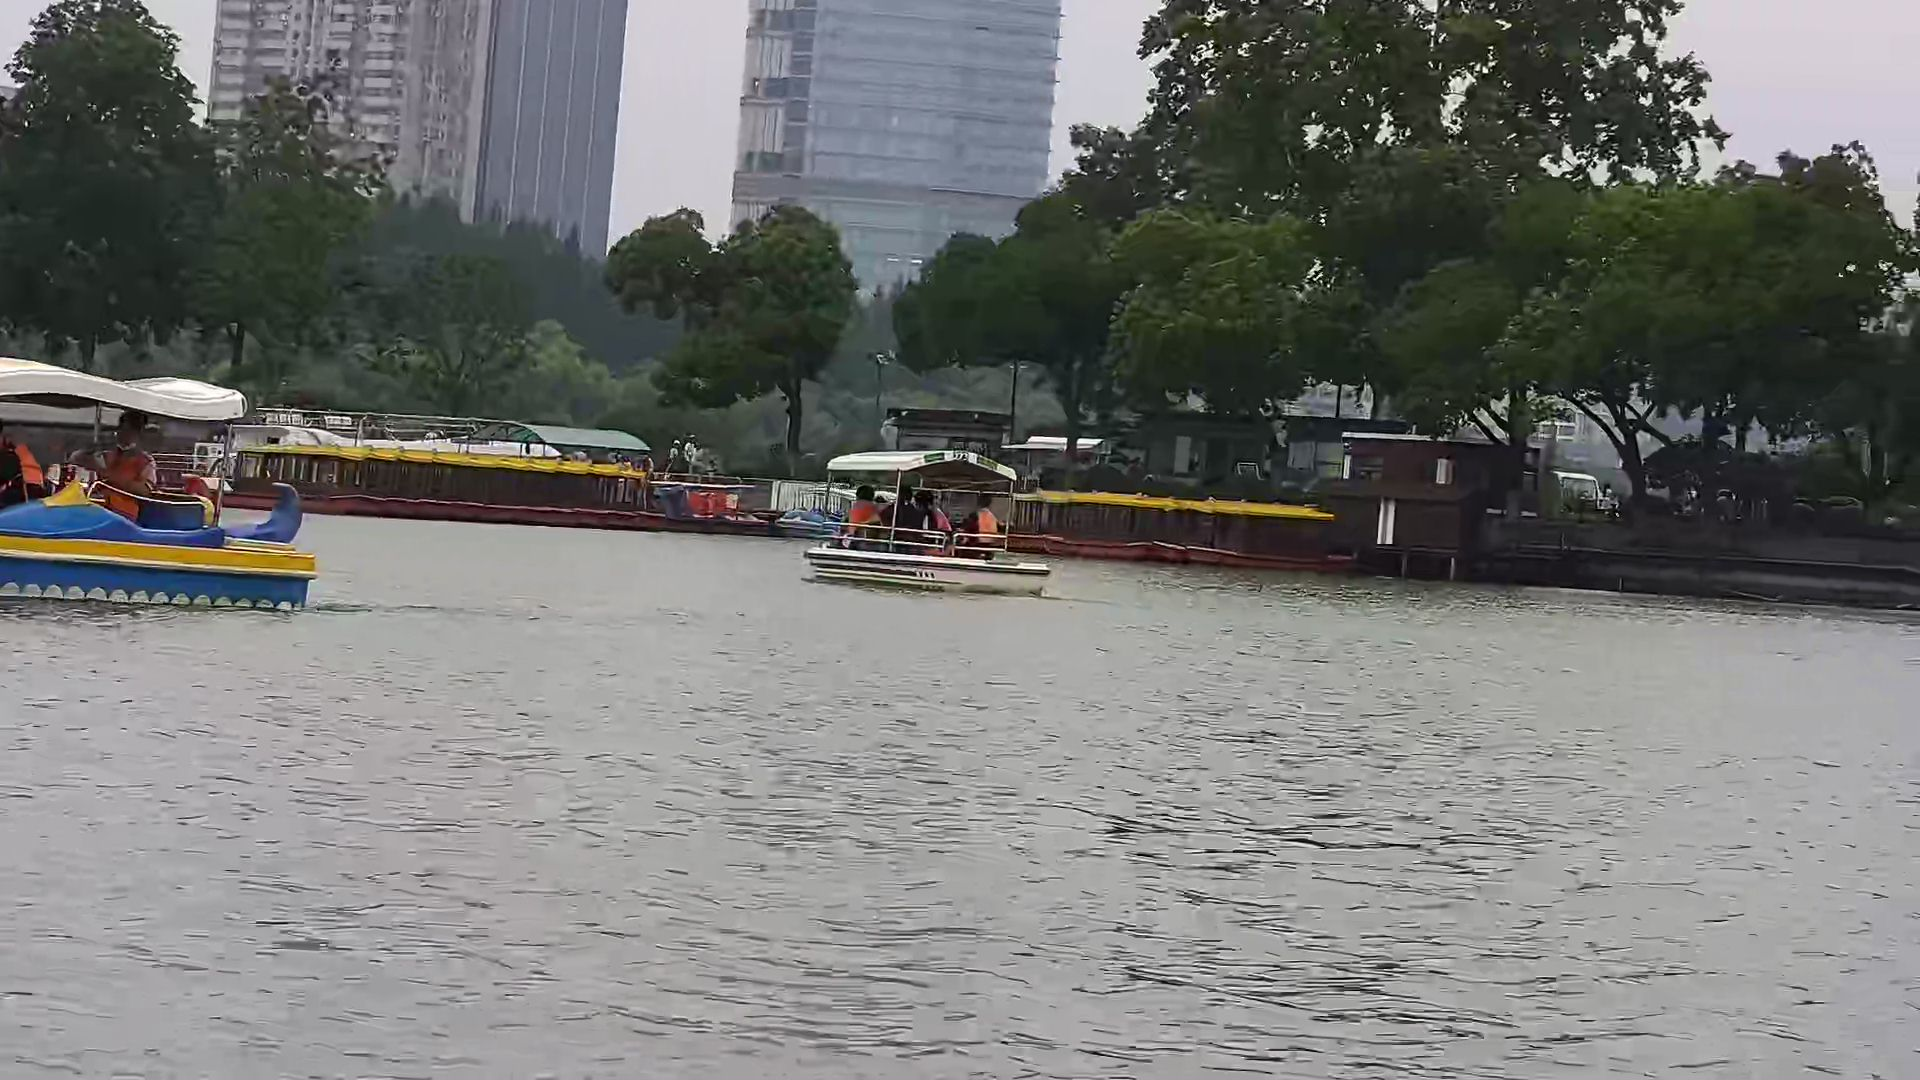boat: (1, 342, 338, 621), (785, 442, 1072, 615), (1184, 487, 1371, 576), (1039, 480, 1163, 566), (219, 440, 334, 516), (318, 436, 386, 521), (574, 460, 644, 539)
